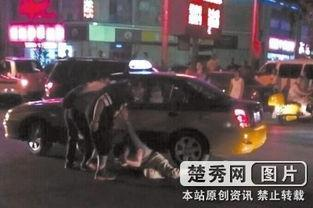Fall-Detected: (115, 137, 182, 183)
